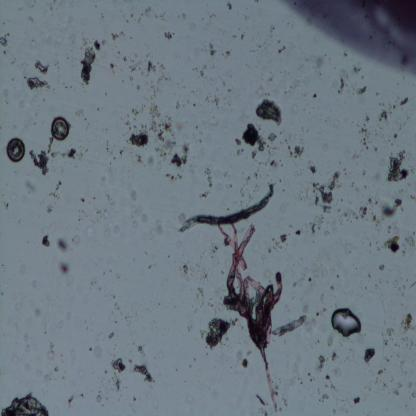Air bubble: (329, 307, 362, 337)
Background material: (361, 94, 412, 154), (122, 103, 178, 157), (306, 170, 340, 233), (355, 190, 405, 226), (195, 239, 221, 307), (233, 121, 267, 160), (314, 347, 338, 402), (1, 392, 50, 416), (201, 318, 237, 350), (29, 137, 54, 180), (166, 142, 189, 181), (150, 62, 170, 105), (106, 352, 127, 392), (256, 96, 284, 126), (386, 150, 410, 184), (332, 76, 368, 97), (80, 43, 96, 86), (129, 359, 154, 386), (397, 309, 416, 336), (198, 166, 213, 199), (282, 142, 306, 159), (48, 179, 64, 204), (381, 235, 402, 254), (268, 234, 288, 253), (201, 92, 225, 106), (363, 343, 378, 365), (26, 76, 48, 90), (61, 147, 83, 161), (235, 349, 250, 369), (177, 260, 192, 280), (381, 327, 394, 346), (127, 59, 145, 72), (33, 59, 48, 74), (41, 231, 52, 250), (145, 59, 157, 76), (394, 378, 404, 398), (57, 236, 68, 254), (111, 30, 125, 42), (268, 157, 280, 171), (0, 31, 10, 47), (208, 44, 217, 60), (74, 106, 86, 118), (58, 264, 70, 275), (226, 0, 235, 14), (268, 132, 278, 142), (164, 30, 174, 40), (94, 40, 102, 51), (294, 228, 302, 237), (109, 61, 114, 74), (354, 396, 360, 406), (46, 205, 52, 214)
Cellulose filter fibre: (177, 183, 275, 237), (272, 312, 307, 338)
Cotton: (217, 220, 280, 406)
Diatom: (6, 137, 26, 165), (52, 116, 69, 141)
Pen: (282, 0, 416, 81)
